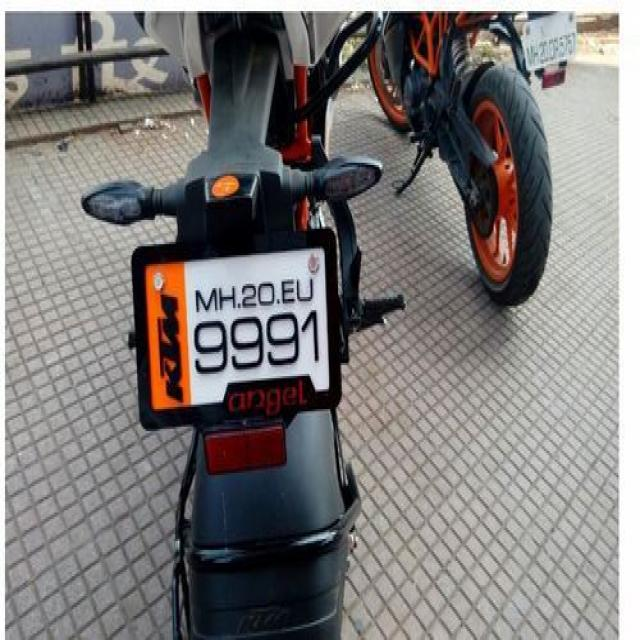license-plate: (141, 246, 329, 412)
